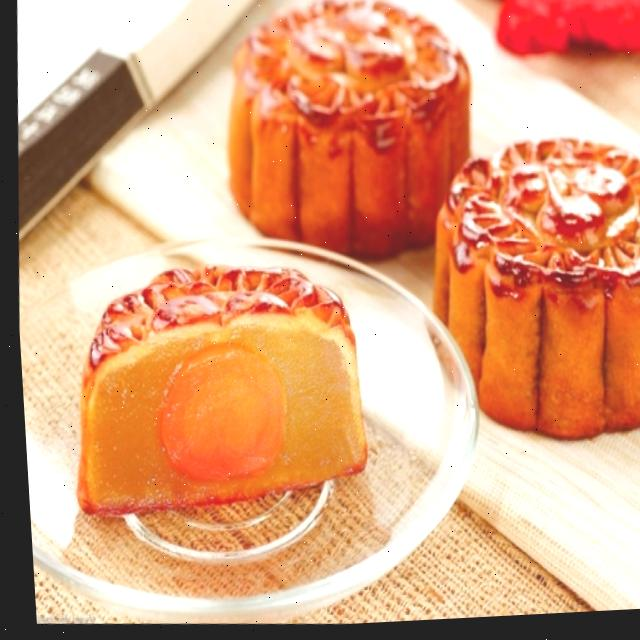蛋糕甜品: (26, 0, 640, 638)
